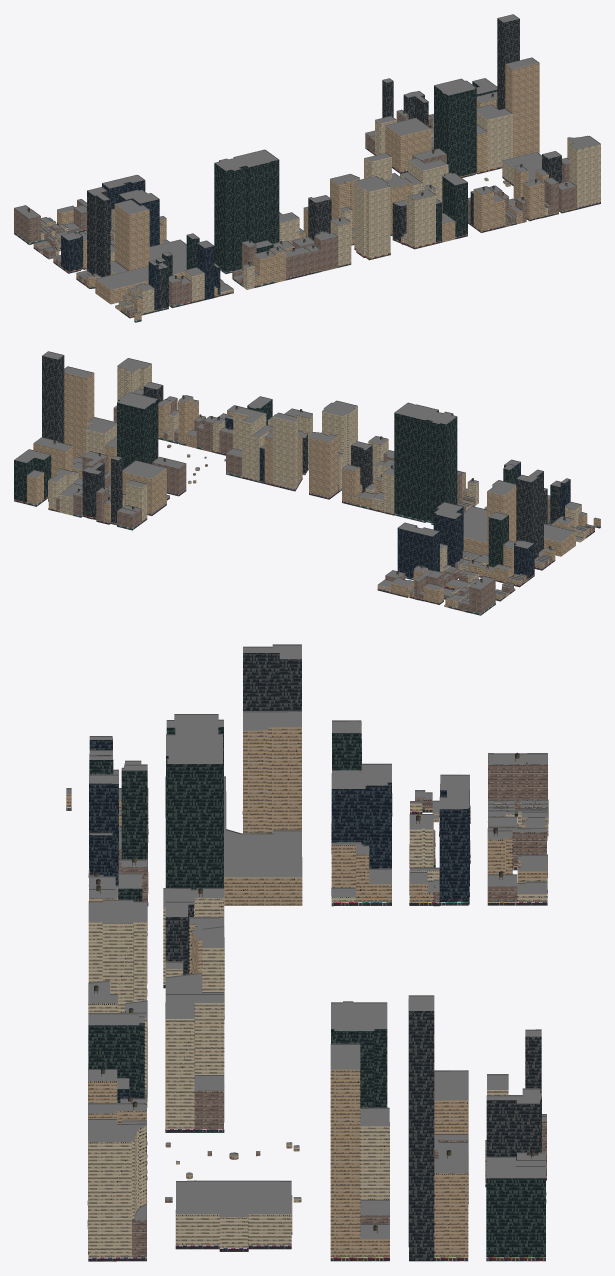
File: mid_s.glb
3 views of the same model, one above another, from view 1: azimuth 30°, elevation 25°; view 2: azimuth 150°, elevation 25°; view 3: azimuth 270°, elevation 25° (orthographic). The views are drawn at different scales.
Parts seen in each view (by area): view 1: BLD_TS_NewYorkTimesBuilding_1087186, BLD_TS_1034196, BLD_TS_SalmonTowerBuilding_1034199, BLD_TS_1015275, BLD_TS_GhiBuilding_1024926, BLD_TS_FifthAvenueTower_1016046, BLD_TS_1087264, BLD_TS_PortAuthorityBusTerminal_1083268, BLD_TS_1034202, BLD_TS_1034198, BLD_TS_LefcourtManhattanBuilding_1080611, BLD_TS_1091887 (+31 smaller); view 2: BLD_TS_NewYorkTimesBuilding_1087186, BLD_TS_1034196, BLD_TS_SalmonTowerBuilding_1034199, BLD_TS_1087264, BLD_TS_1091887, BLD_TS_1088460, BLD_TS_1022568, BLD_TS_PortAuthorityBusTerminal_1083268, BLD_TS_1022569, BLD_TS_1015275, BLD_TS_1034202, BLD_TS_1024945 (+33 smaller); view 3: BLD_TS_NewYorkTimesBuilding_1087186, BLD_TS_NewYorkPublicLibrary_1034194, BLD_TS_FifthAvenueTower_1016046, BLD_TS_1091887, BLD_TS_GhiBuilding_1024926, BLD_TS_SalmonTowerBuilding_1034199, BLD_TS_1022565, BLD_TS_PortAuthorityBusTerminal_1083268, BLD_TS_BankOfNYBuilding_1034227, BLD_TS_1015275, BLD_TS_1024945, BLD_TS_1034196 (+29 smaller).
Part boxes in pixels (x1,y1,x2,y2): BLD_TS_NewYorkTimesBuilding_1087186: [214, 149, 279, 273]; BLD_TS_1034196: [434, 78, 476, 177]; BLD_TS_SalmonTowerBuilding_1034199: [505, 57, 539, 157]; BLD_TS_1015275: [354, 176, 390, 260]; BLD_TS_GhiBuilding_1024926: [114, 199, 149, 270]; BLD_TS_FifthAvenueTower_1016046: [567, 135, 600, 209]; BLD_TS_1087264: [87, 187, 110, 277]; BLD_TS_PortAuthorityBusTerminal_1083268: [95, 239, 186, 304]; BLD_TS_1034202: [385, 117, 431, 173]; BLD_TS_1034198: [476, 104, 512, 171]; BLD_TS_LefcourtManhattanBuilding_1080611: [406, 189, 435, 249]; BLD_TS_1091887: [497, 14, 519, 109]; BLD_TS_NewYorkTimesBuilding_1087186: [394, 402, 457, 524]; BLD_TS_1034196: [117, 392, 158, 469]; BLD_TS_SalmonTowerBuilding_1034199: [64, 366, 94, 458]; BLD_TS_1087264: [516, 469, 543, 558]; BLD_TS_1091887: [42, 351, 64, 443]; BLD_TS_1088460: [397, 522, 439, 580]; BLD_TS_1022568: [273, 412, 297, 491]; BLD_TS_PortAuthorityBusTerminal_1083268: [463, 506, 575, 556]; BLD_TS_1022569: [309, 431, 337, 499]; BLD_TS_1015275: [322, 400, 357, 466]; BLD_TS_1034202: [122, 460, 166, 515]; BLD_TS_1024945: [433, 502, 463, 566]; BLD_TS_NewYorkTimesBuilding_1087186: [166, 714, 223, 889]; BLD_TS_NewYorkPublicLibrary_1034194: [175, 1180, 292, 1251]; BLD_TS_FifthAvenueTower_1016046: [88, 1119, 146, 1261]; BLD_TS_1091887: [408, 995, 434, 1261]; BLD_TS_GhiBuilding_1024926: [243, 711, 301, 833]; BLD_TS_SalmonTowerBuilding_1034199: [330, 1043, 360, 1261]; BLD_TS_1022565: [165, 993, 224, 1132]; BLD_TS_PortAuthorityBusTerminal_1083268: [165, 776, 302, 905]; BLD_TS_BankOfNYBuilding_1034227: [486, 1156, 545, 1261]; BLD_TS_1015275: [88, 899, 146, 1012]; BLD_TS_1024945: [331, 763, 391, 891]; BLD_TS_1034196: [331, 1001, 387, 1107].
Size of the model in its own units: 1104 by 282 by 493.
12 materials, 10 textured.
